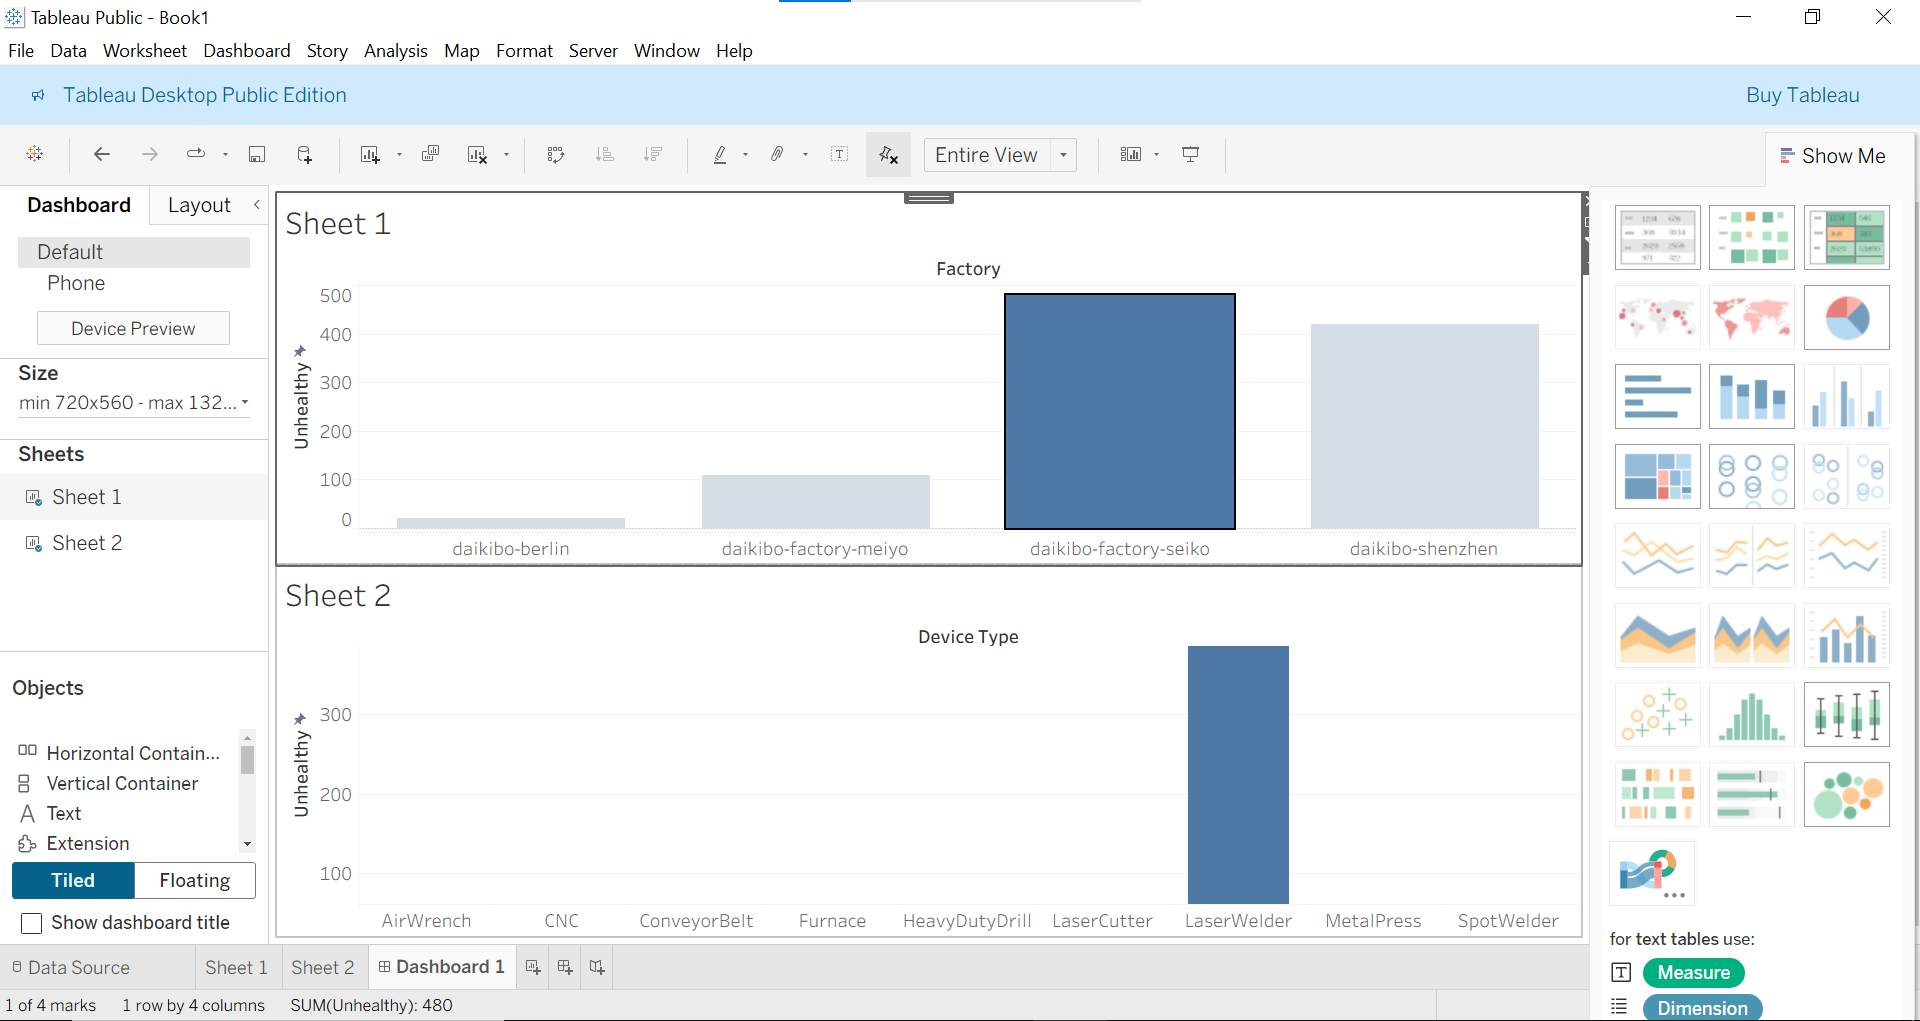

What the dashboard file says about the page in this screenshot:
{"tool":"tableau","page":{"name":"Dashboard 1","canvas":[1000,1000],"units":"permille","ordinal":0},"visuals":[{"type":"worksheet","title":"Sheet 1","mark":"Automatic","rows":["Calculation_326792474153603072"],"cols":["factory"],"box":[6.1,10.5,987.9,489.5]},{"type":"worksheet","title":"Sheet 2","mark":"Automatic","rows":["Calculation_326792474153603072"],"cols":["deviceType"],"box":[6.1,500,987.9,489.5]}]}

Visuals, with their boxes on the dashboard's canvas, which has no fixed pixel size, in thousandths of its width and height (x1, y1, x2, y2). These are canvas units, not pixel positions in the 1920x1021 screenshot, which may show the page scaled, cropped or inside an application window:
"Sheet 1" worksheet: 6, 10, 994, 500
"Sheet 2" worksheet: 6, 500, 994, 990
